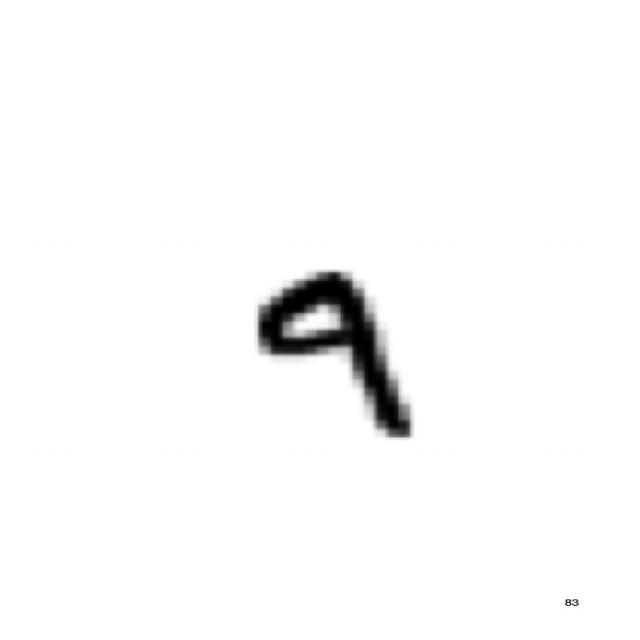9 -nine-: (239, 253, 432, 452)
